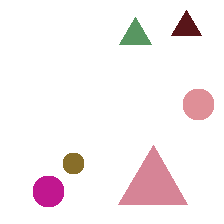circle: (183, 89, 213, 119), (33, 176, 63, 206), (63, 153, 83, 173)
triangle: (118, 145, 187, 204), (119, 17, 151, 44), (171, 10, 201, 35)
